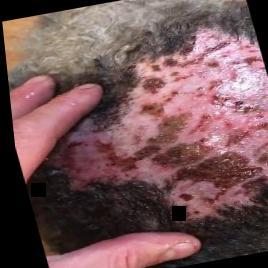skin_lesions: (6, 11, 268, 248)
